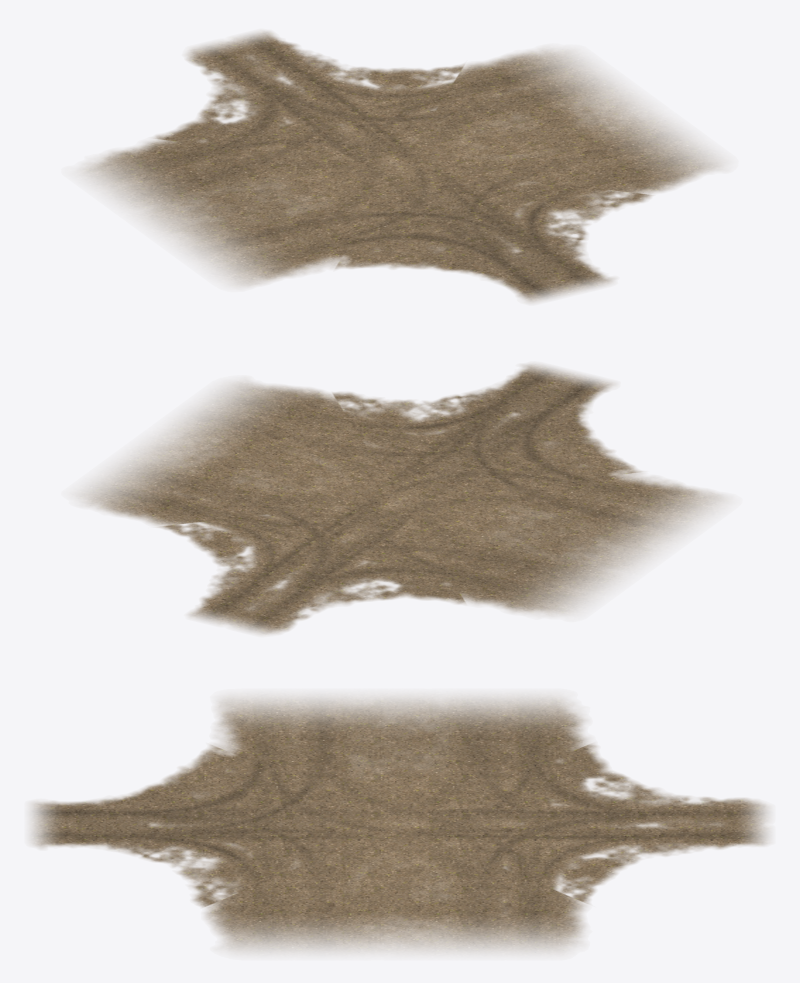
File: road_cross_main_drive.glb
3 views of the same model, one above another, from view 1: azimuth 30°, elevation 25°; view 2: azimuth 150°, elevation 25°; view 3: azimuth 270°, elevation 25° (orthographic). The views are drawn at different scales.
Visible parts, largest first — view 1: road_cross_main_drive; view 2: road_cross_main_drive; view 3: road_cross_main_drive.
Part boxes in pixels (box(x1,y1,x2,y2)): road_cross_main_drive: box(80, 31, 722, 302); road_cross_main_drive: box(78, 364, 725, 634); road_cross_main_drive: box(31, 696, 768, 952).
Bounding box in the file's own units: 19.38 × 0 × 21.88.
1 material, 1 textured.
